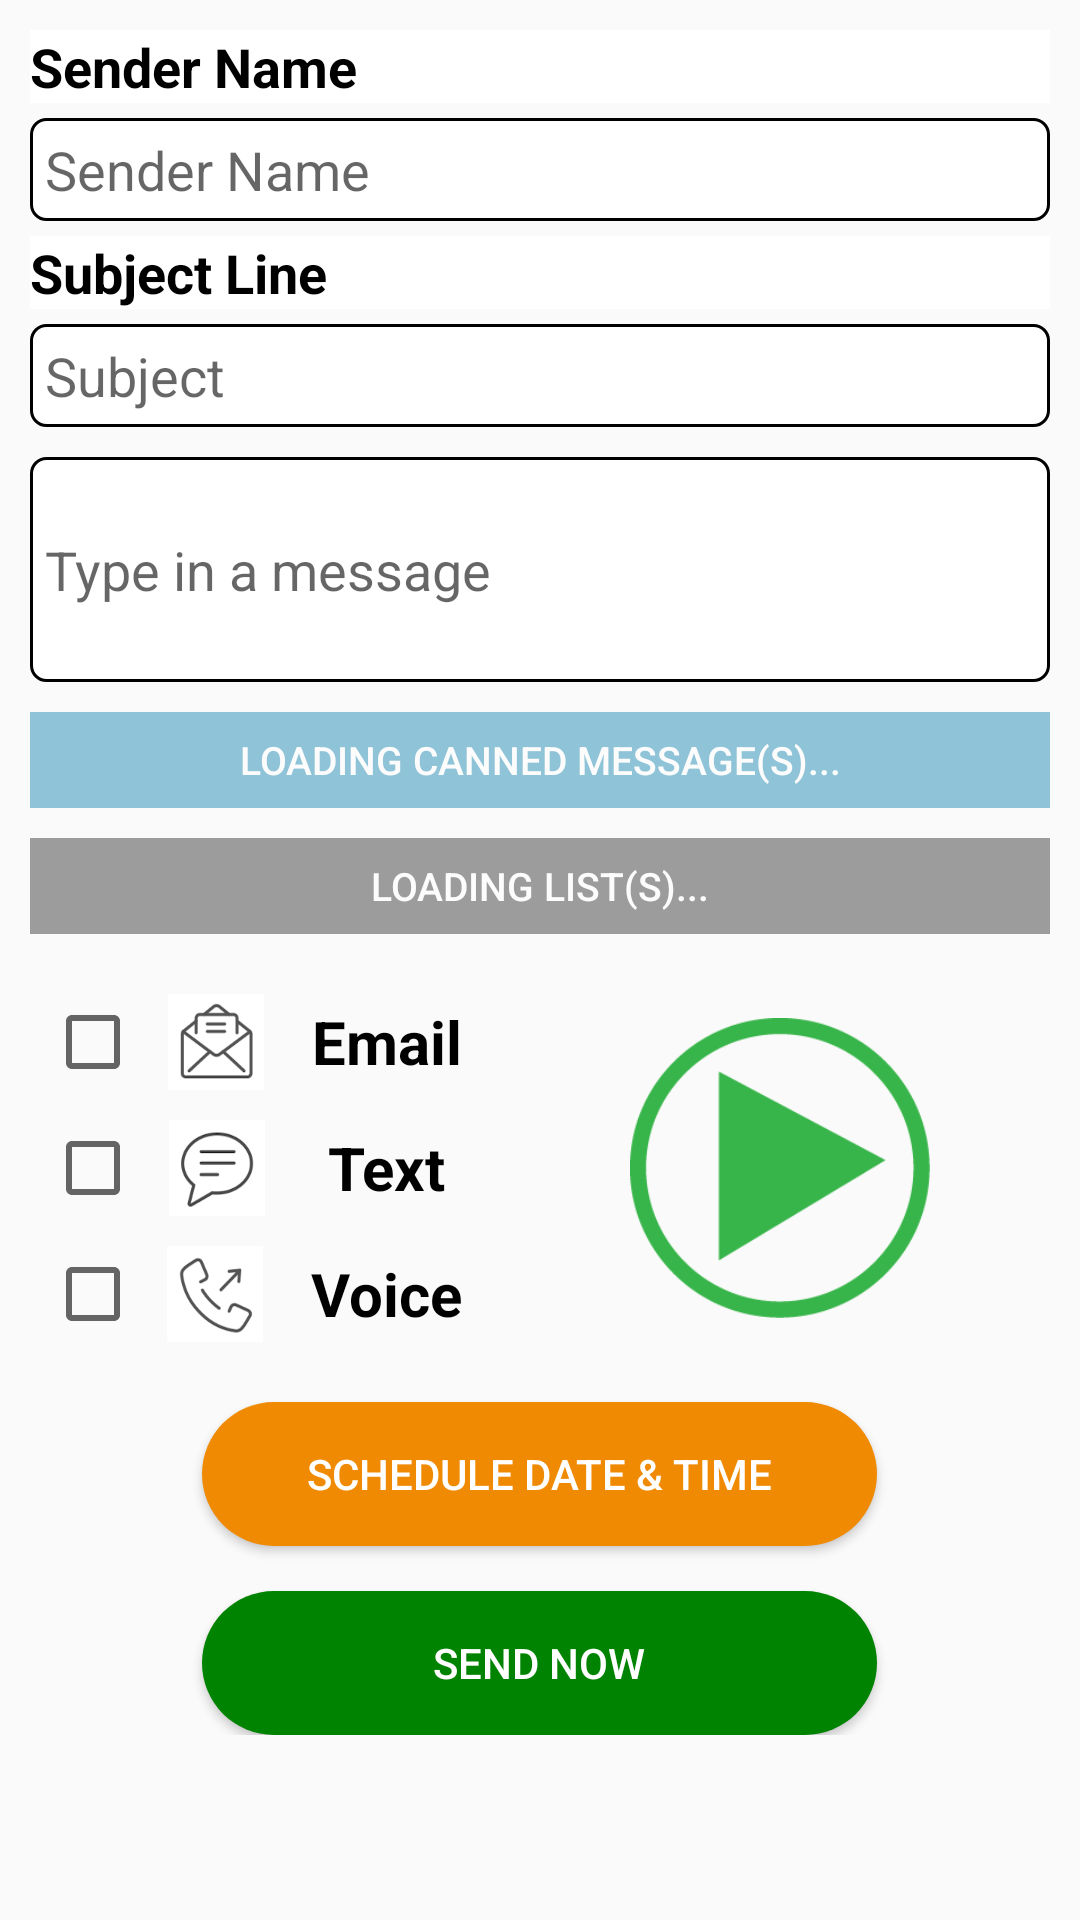

Named icons in this screenshot (1080 x 1920) and their centers, (x,y):
phone original: (216,1295)
play sound: (780,1168)
